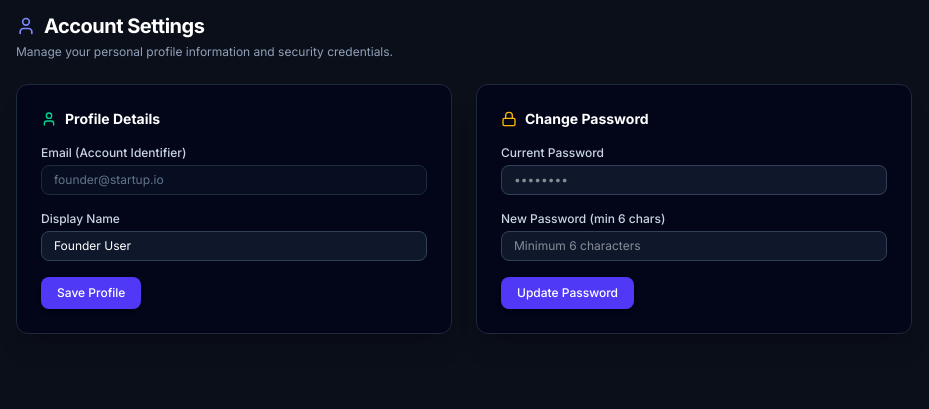
it: Customer Profile Settings Suite › renders profile settings form and updates display name
Check: the text "Account Settings" is shown, box [44,12,204,40]
Check: the field showing "founder@startup.io" below "Email (Account Identifier)" is shown, box [41,165,427,195]
// Update Name
Replace the text in the field showing "Founder User" below "Display Name" with "Lead Founder": (234, 246) [41,231,427,261]
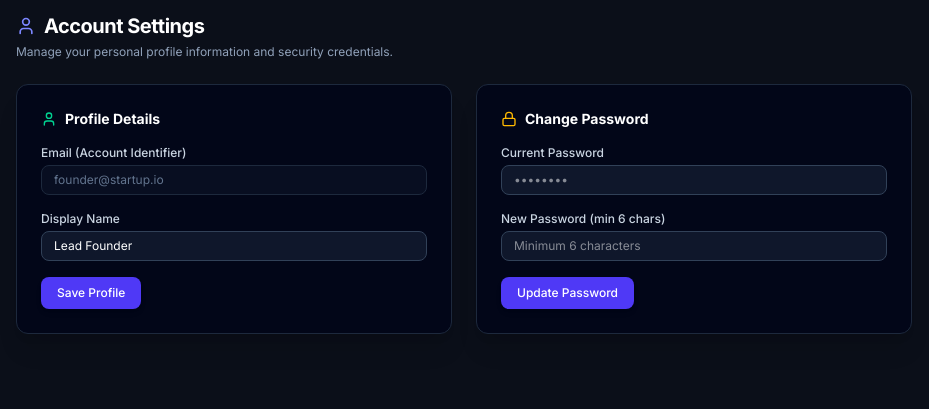
Click the button "Save Profile": (91, 293) [41,277,141,309]
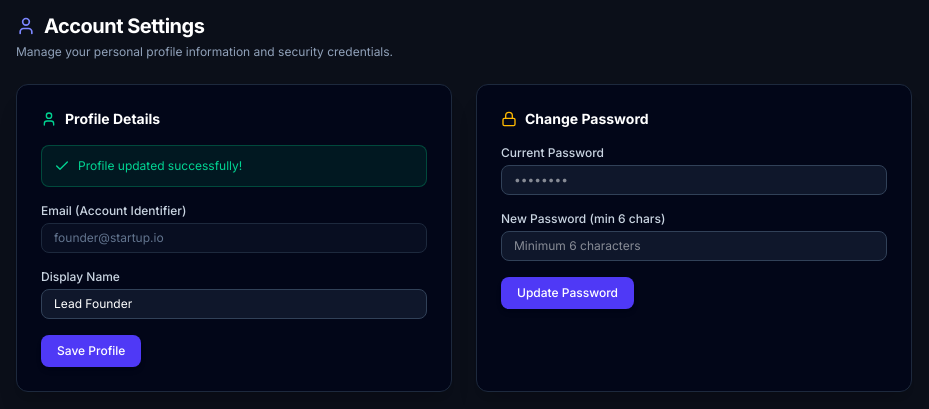
Check: the text "Profile updated successfully!" is shown, box [78,158,242,174]
